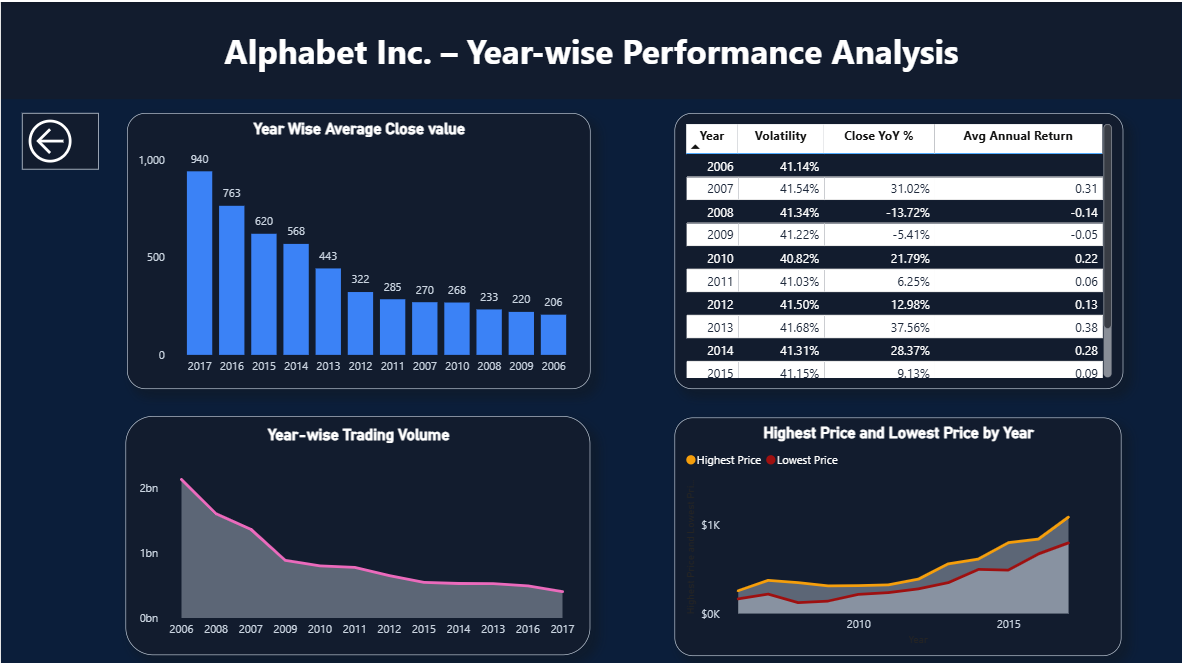

The dashboard page shown, as its layout file describes it:
{"tool":"powerbi","page":{"name":"Year Wise Trends","canvas":[1280,720],"ordinal":3},"visuals":[{"type":"actionButton","box":[22.9,120.3,83.1,61.6],"z":0},{"type":"columnChart","title":"Year Wise Average Close value","fields":{"Category":["DateTable.Year"],"Y":["Calculations.A C Value"]},"box":[136.6,120.4,502.6,299.3],"z":1000},{"type":"tableEx","fields":{"Values":["DateTable.Year","Calculations.Volatility","Calculations.Close YoY %","Calculations.Avg Annual Return"]},"box":[730.3,120.4,486.3,299.3],"z":2000},{"type":"lineChart","title":"Year-wise Trading Volume ","fields":{"Category":["DateTable.Year"],"Y":["Calculations.Total Volume"]},"box":[135.7,449.6,504.3,259.2],"z":3000},{"type":"areaChart","fields":{"Category":["DateTable.Year"],"Y":["Calculations.Highest Price","Calculations.Lowest Price"]},"box":[730.3,450.6,484.7,258.6],"z":4000},{"type":"card","fields":{"Values":["Calculations.Dynamic Page Title"]},"box":[0,0,1280,105.3],"z":5000}]}

Visuals, with their boxes in screenshot pixels (x1, y1, x2, y2), scaled from the page's 1280x720 canvas onto the 1182x663 screenshot:
actionButton: [21, 111, 98, 167]
"Year Wise Average Close value" columnChart: [126, 111, 590, 386]
tableEx - DateTable.Year x Calculations.Volatility: [674, 111, 1123, 386]
"Year-wise Trading Volume " lineChart: [125, 414, 591, 653]
areaChart - DateTable.Year x Calculations.Highest Price: [674, 415, 1122, 653]
card - Calculations.Dynamic Page Title: [0, 0, 1181, 97]
